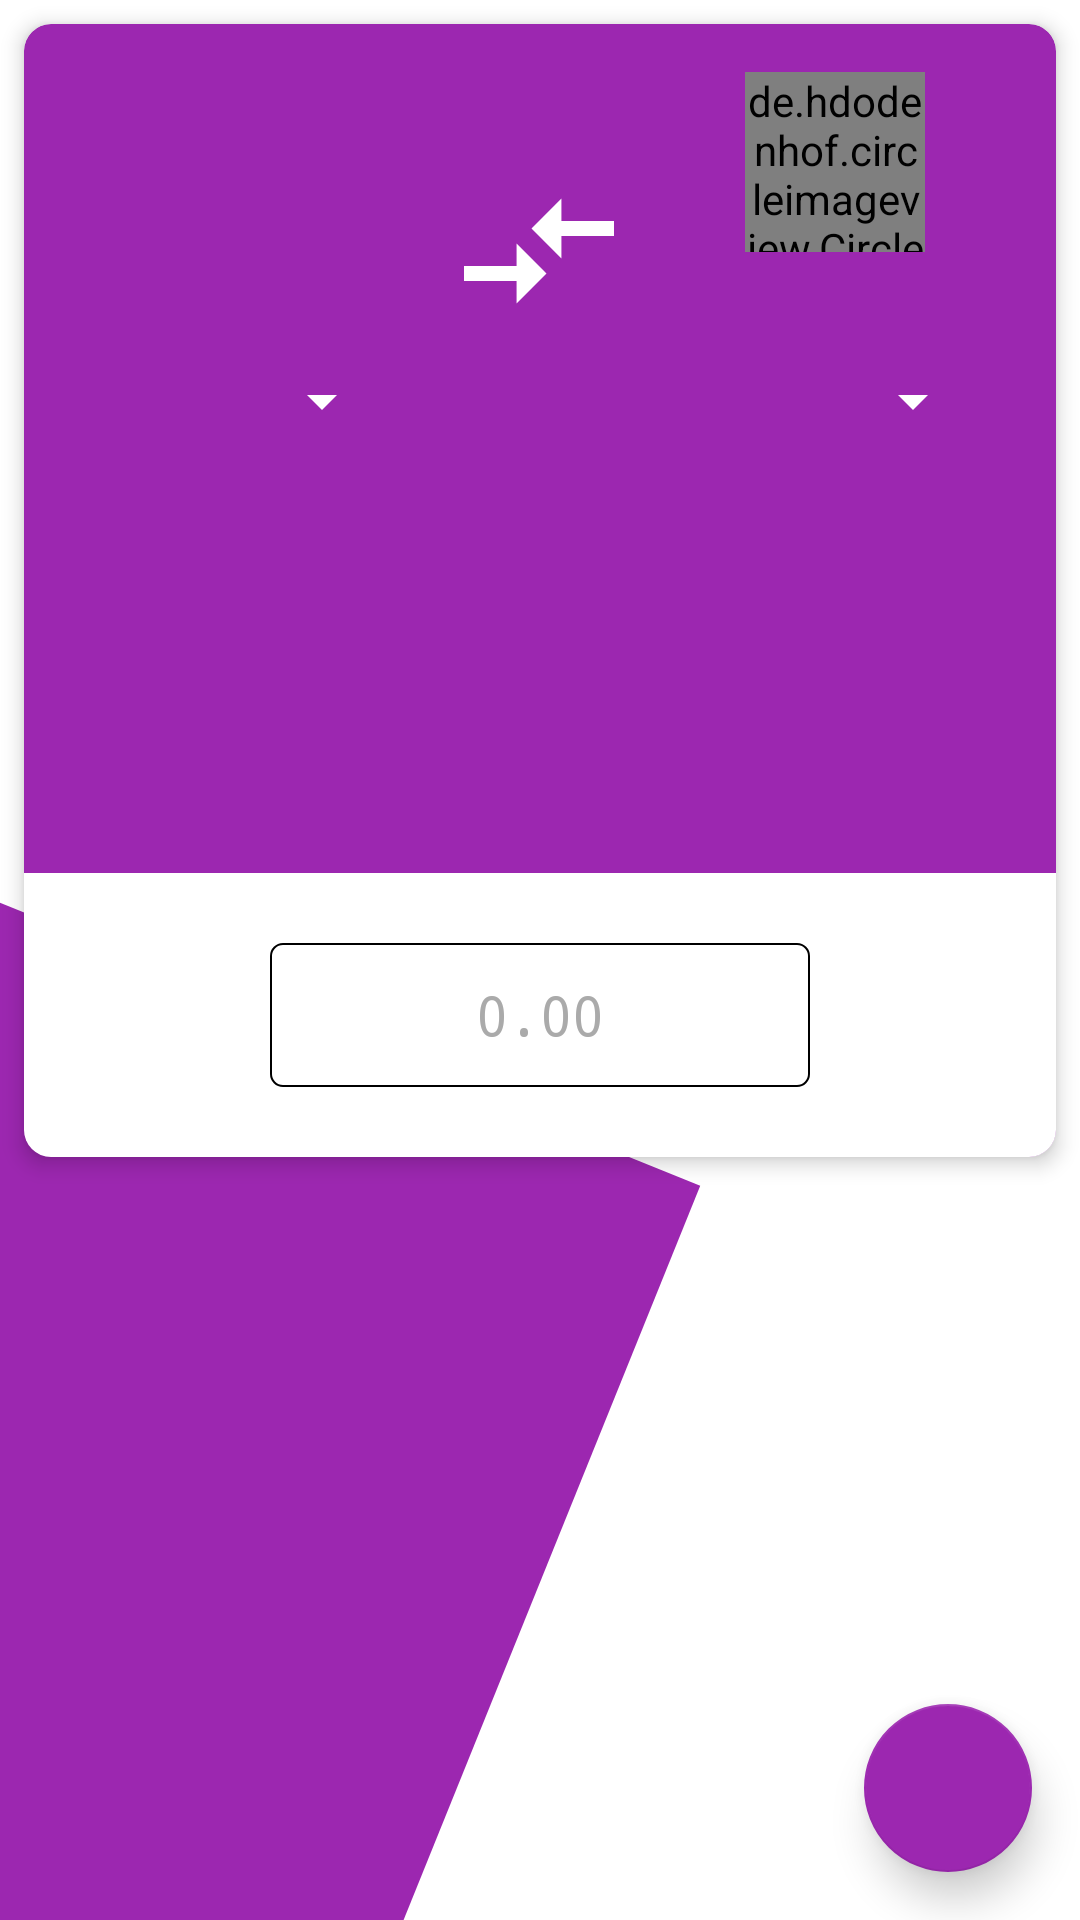

Screen size 1080×1920. Icon name, then its center in pixels as (x=x, y=y):
compare: (x=539, y=251)
